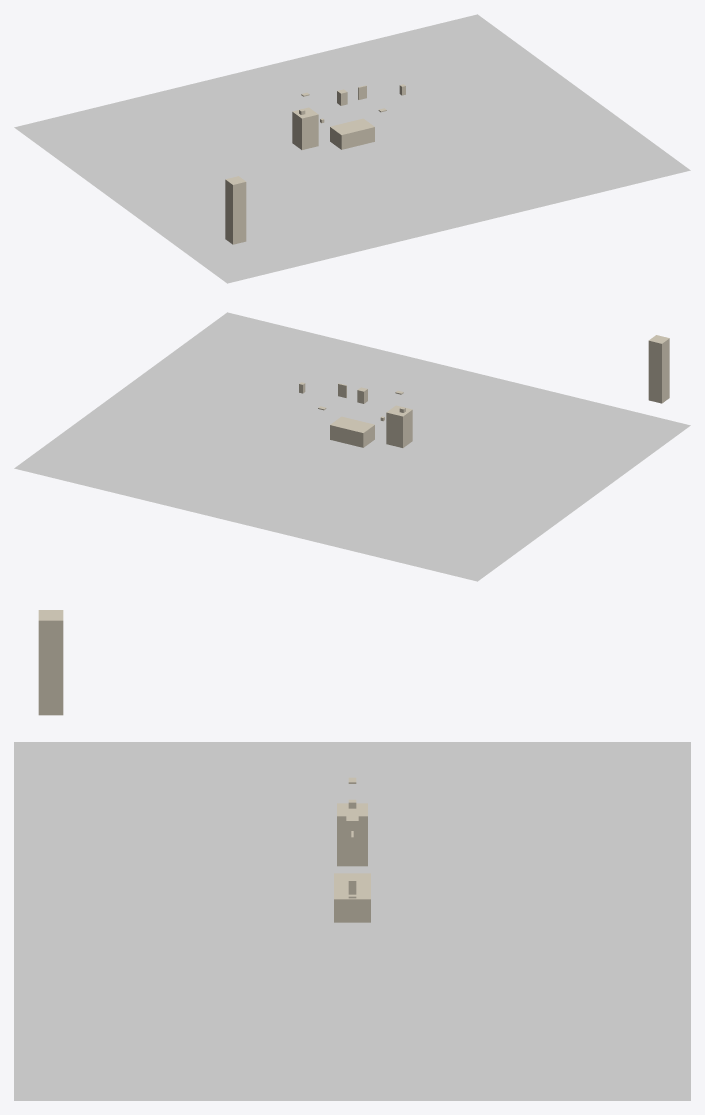
Rendered from draft-aa408294.glb.
3 views of the same model, one above another, from view 1: azimuth 30°, elevation 25°; view 2: azimuth 150°, elevation 25°; view 3: azimuth 270°, elevation 25° (orthographic). The views are drawn at different scales.
Visible parts, largest first — view 1: Floor, asm_lamp_floor_3, asm_table_coffee_2, asm_chair_standard_1; view 2: Floor, asm_lamp_floor_3, asm_table_coffee_2, asm_chair_standard_1; view 3: Floor, asm_lamp_floor_3, asm_table_coffee_2, asm_chair_standard_1.
Part boxes in pixels (x1,y1,x2,y2): Floor: (14, 14, 690, 283); asm_lamp_floor_3: (225, 176, 246, 244); asm_table_coffee_2: (330, 118, 374, 149); asm_chair_standard_1: (292, 107, 318, 149); Floor: (14, 312, 690, 581); asm_lamp_floor_3: (648, 335, 669, 403); asm_table_coffee_2: (330, 416, 374, 447); asm_chair_standard_1: (386, 405, 412, 447); Floor: (14, 742, 690, 1100); asm_lamp_floor_3: (38, 610, 63, 715); asm_table_coffee_2: (334, 873, 370, 922); asm_chair_standard_1: (337, 803, 367, 866).
Bounding box in the file's own units: 6.9 × 1.28 × 5.5.
